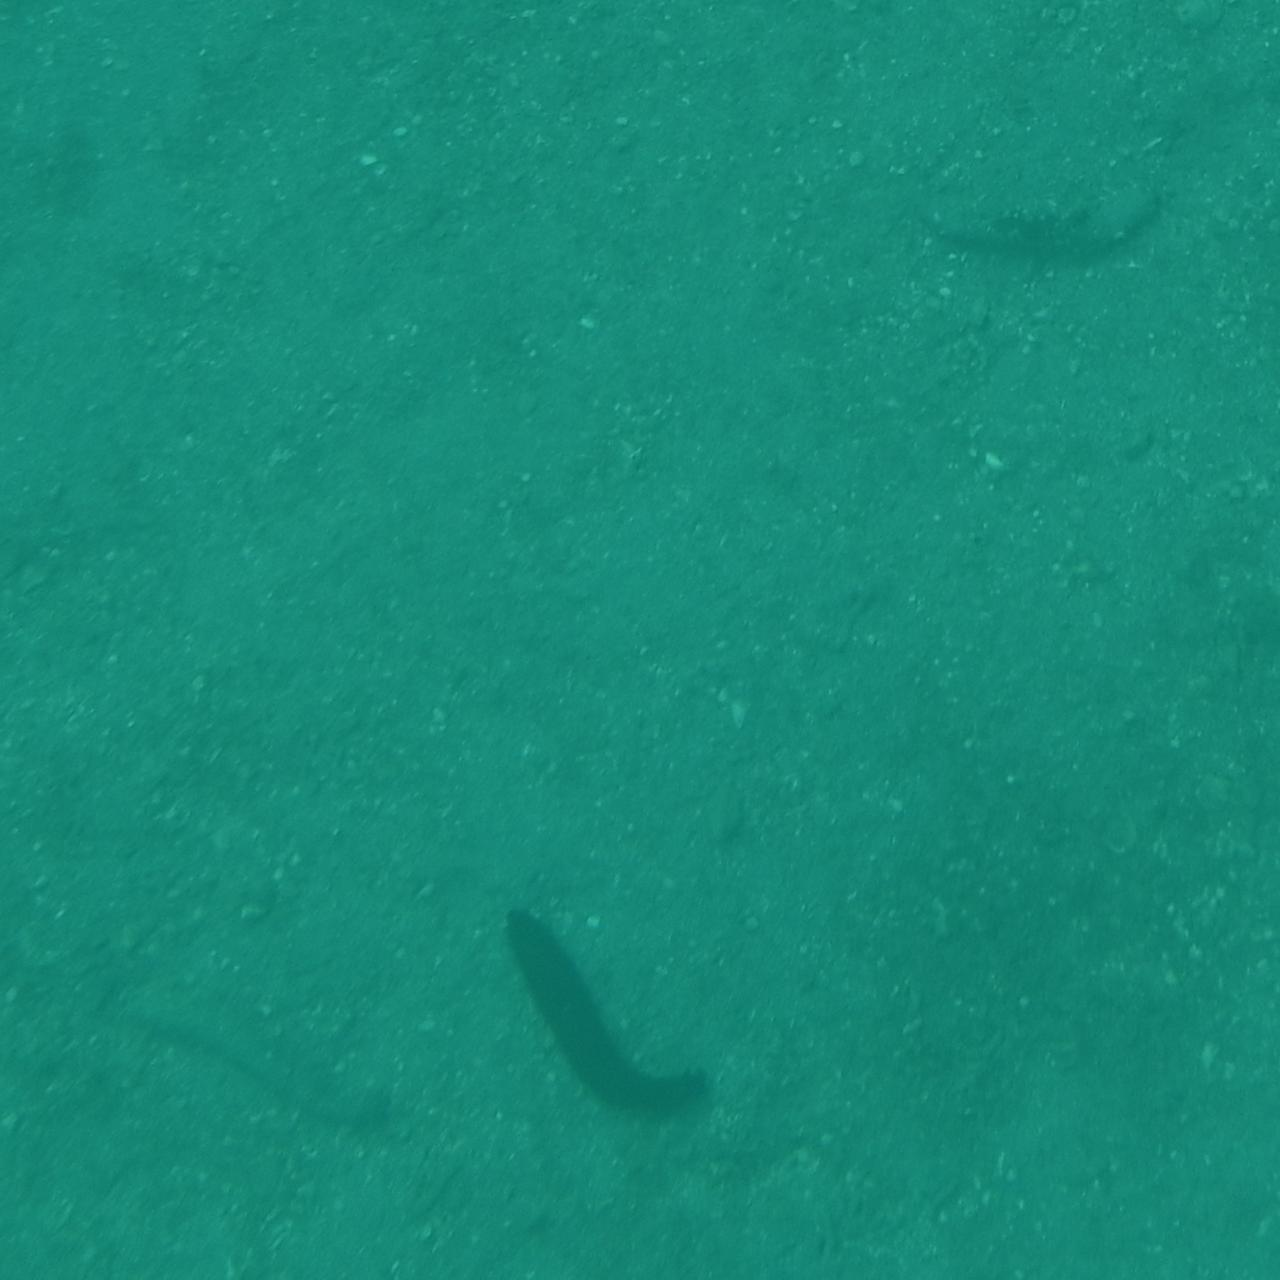Holothuria tubulosa: (79, 976, 400, 1145), (506, 919, 709, 1142), (907, 184, 1177, 253)
